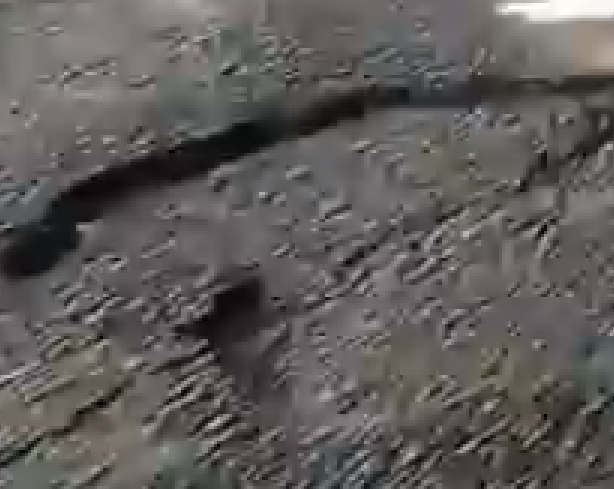Berlubang: (2, 77, 614, 278), (196, 263, 614, 449)
